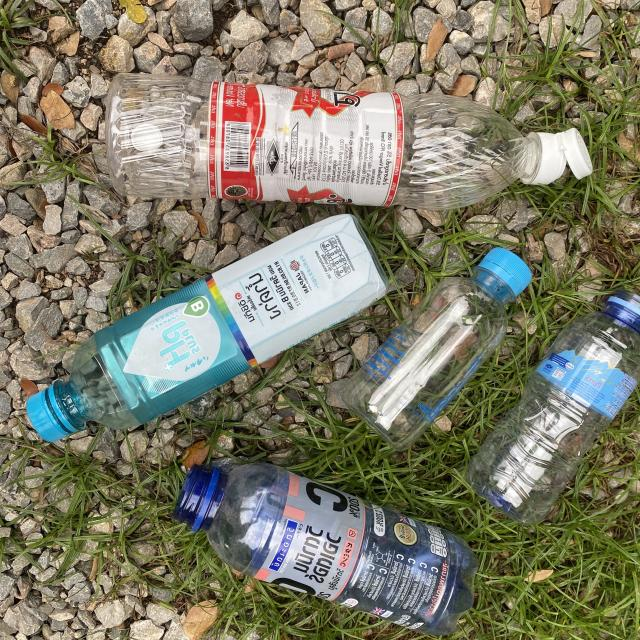plastik: (26, 214, 388, 442), (106, 73, 591, 210), (174, 463, 478, 635), (466, 289, 640, 526), (342, 247, 532, 450)
